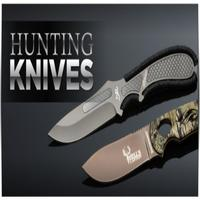knife: (42, 50, 186, 147), (78, 110, 200, 176)
